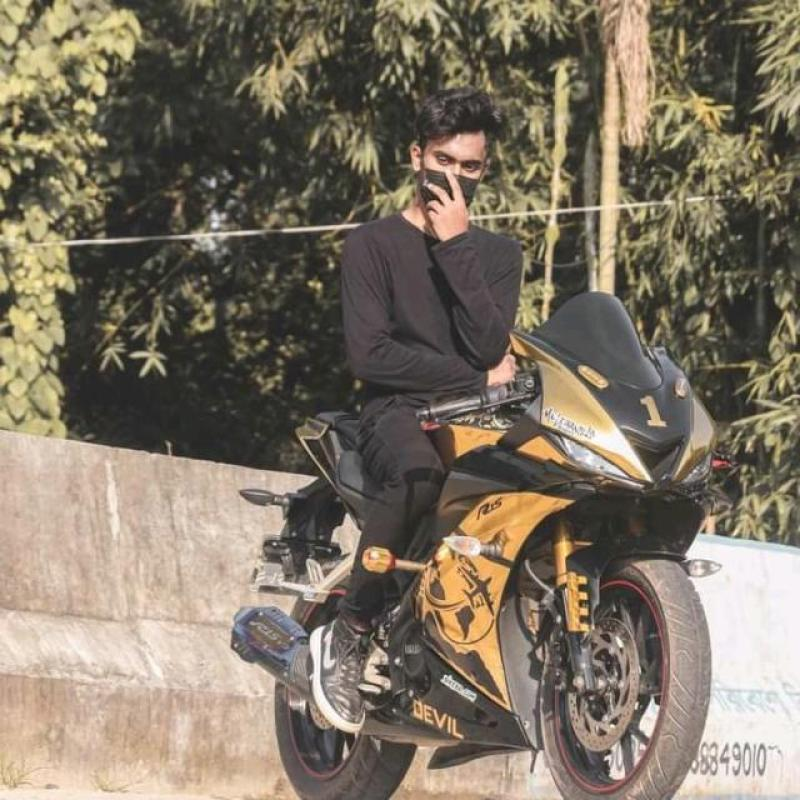nohelmet: (384, 76, 496, 240)
